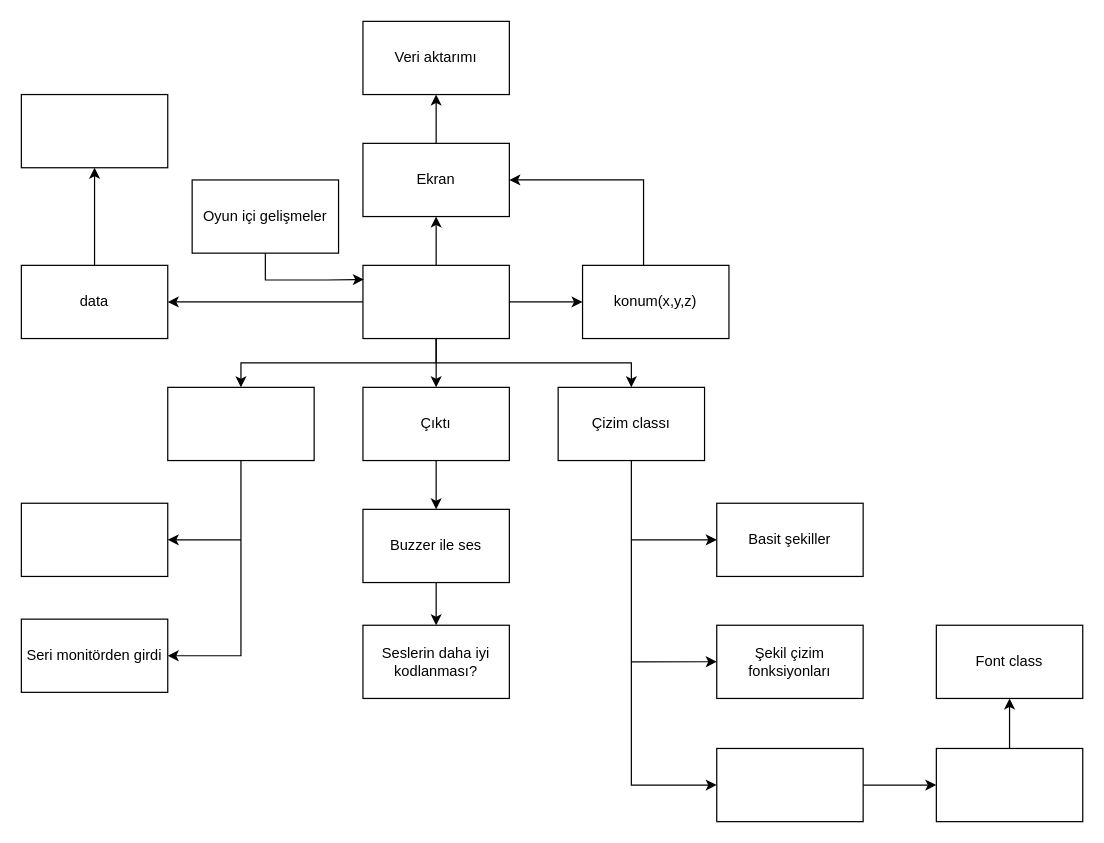
The diagram is 1104 pixels wide and 843 high, and some of its shapes have lost their labels. The centre of each missing label's shape, as x and y in pixels:
"2bit array" goes at (x=94, y=130).
"El yapımı konsol" goes at (x=94, y=539).
"Fontlar" goes at (x=1009, y=784).
"Harf çizim fonksiyonları" goes at (x=789, y=784).
"Input girişi" goes at (x=240, y=423).
"Pencereler" goes at (x=435, y=301).
